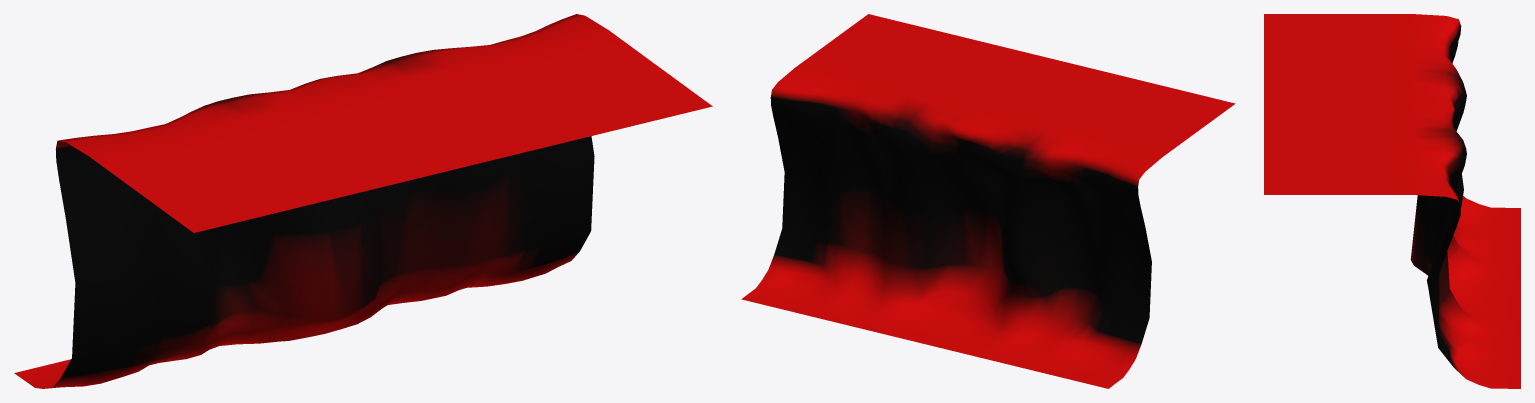
File: GroundCliff01B 1M Foreground.fbx
3 views of the same model, side by side, from view 1: azimuth 30°, elevation 25°; view 2: azimuth 150°, elevation 25°; view 3: azimuth 270°, elevation 25° (orthographic). The views are drawn at different scales.
Parts seen in each view (by area): view 1: GroundCliff01B 1M Foreground; view 2: GroundCliff01B 1M Foreground; view 3: GroundCliff01B 1M Foreground.
Part boxes in pixels (left/top/right/bottom): GroundCliff01B 1M Foreground: left=14, top=14, right=712, bottom=388; GroundCliff01B 1M Foreground: left=741, top=14, right=1235, bottom=388; GroundCliff01B 1M Foreground: left=1264, top=14, right=1520, bottom=388.
Bounding box in the file's own units: 2 × 1 × 1.2.
